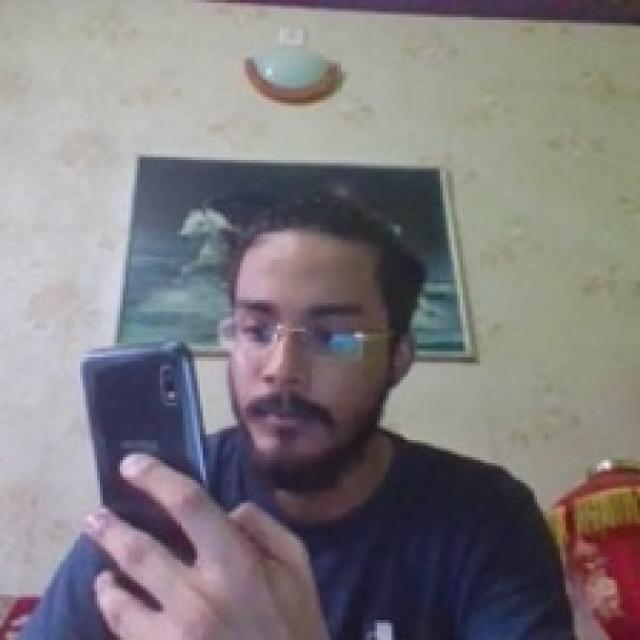Phone: (80, 339, 204, 559)
